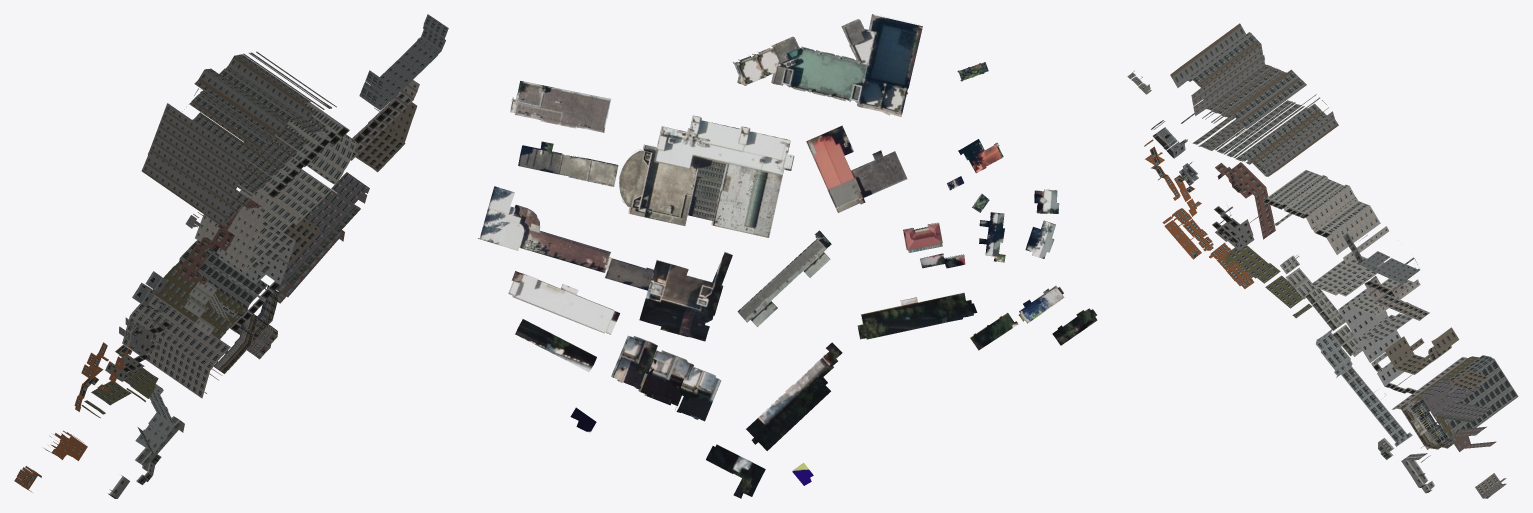
Rendered from tile_LOD8_r6_c4.glb.
3 views of the same model, side by side, from view 1: azimuth 30°, elevation 25°; view 2: azimuth 150°, elevation 25°; view 3: azimuth 270°, elevation 25° (orthographic). The views are drawn at different scales.
Size of the model in its own units: 296 by 254 by 202.
110 materials, 110 textured.
